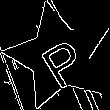P_NW: (29, 25, 89, 88)
